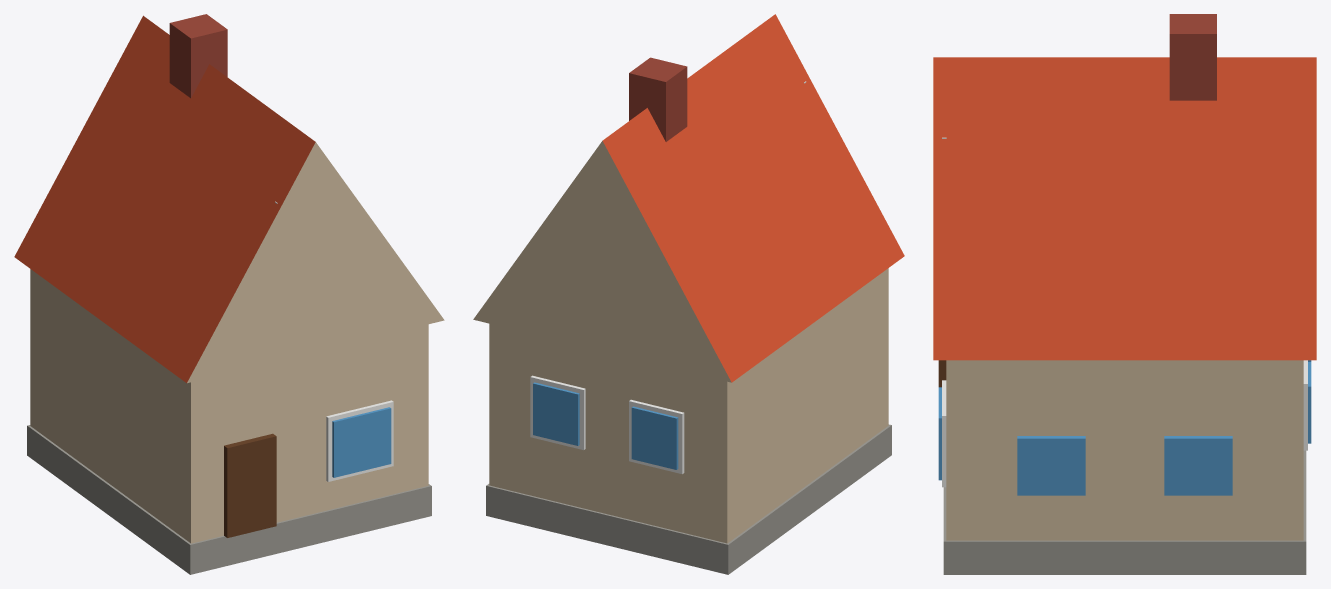
Rendered from 44_konigsberg_suburban_1.obj.
The picture shows the model from 3 angles, left to right: view 1: azimuth 30°, elevation 25°; view 2: azimuth 150°, elevation 25°; view 3: azimuth 270°, elevation 25°; orthographic projection. The views are drawn at different scales.
Visible parts, largest first — view 1: 44_konigsberg_suburban_1; view 2: 44_konigsberg_suburban_1; view 3: 44_konigsberg_suburban_1.
Boxes of the visible parts, x1,y1,x2,y2 form: 44_konigsberg_suburban_1: (14, 14, 444, 574); 44_konigsberg_suburban_1: (473, 14, 904, 574); 44_konigsberg_suburban_1: (933, 14, 1316, 574).
Size of the model in its own units: 1.26 by 2.04 by 1.46.
